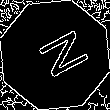N_SW: (23, 26, 87, 84)
